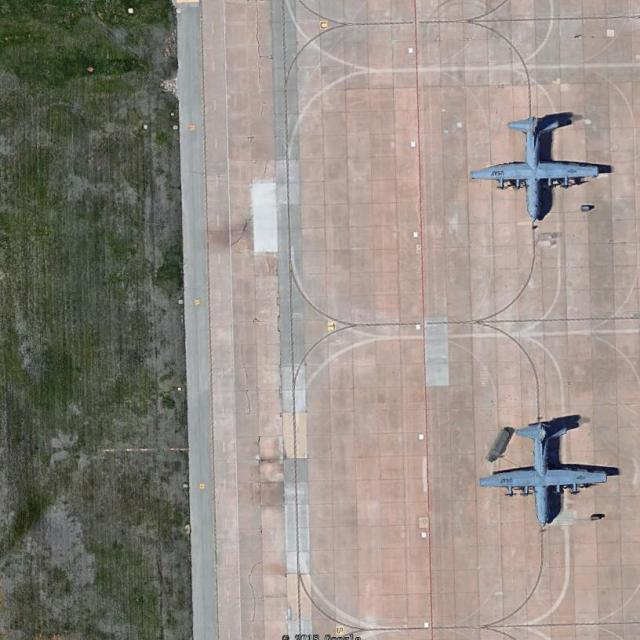fighter jet: (485, 412, 612, 534), (474, 112, 606, 218)
